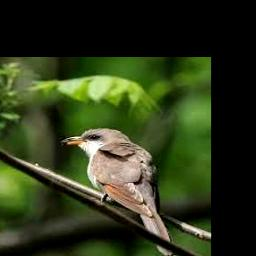Cuckoo: (62, 128, 175, 256)
